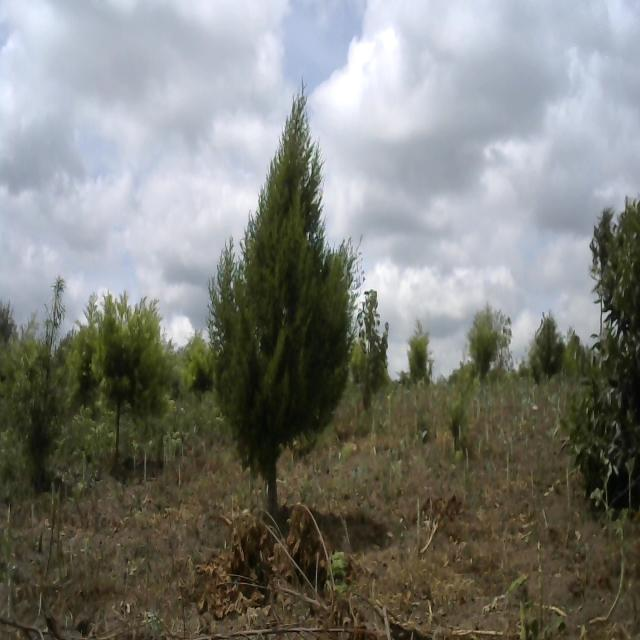Dombeya torrida: (358, 287, 390, 398)
Juniperus procesera: (203, 84, 359, 534), (462, 305, 500, 378), (399, 316, 435, 384)
Podocarpus falcatus: (14, 272, 74, 490)
